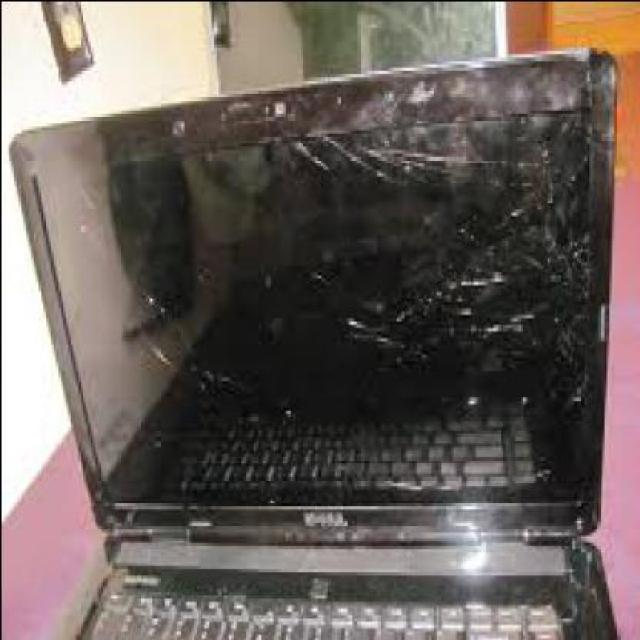Screen cracks: (293, 111, 587, 405)
